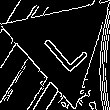L_NW: (34, 16, 90, 74)
